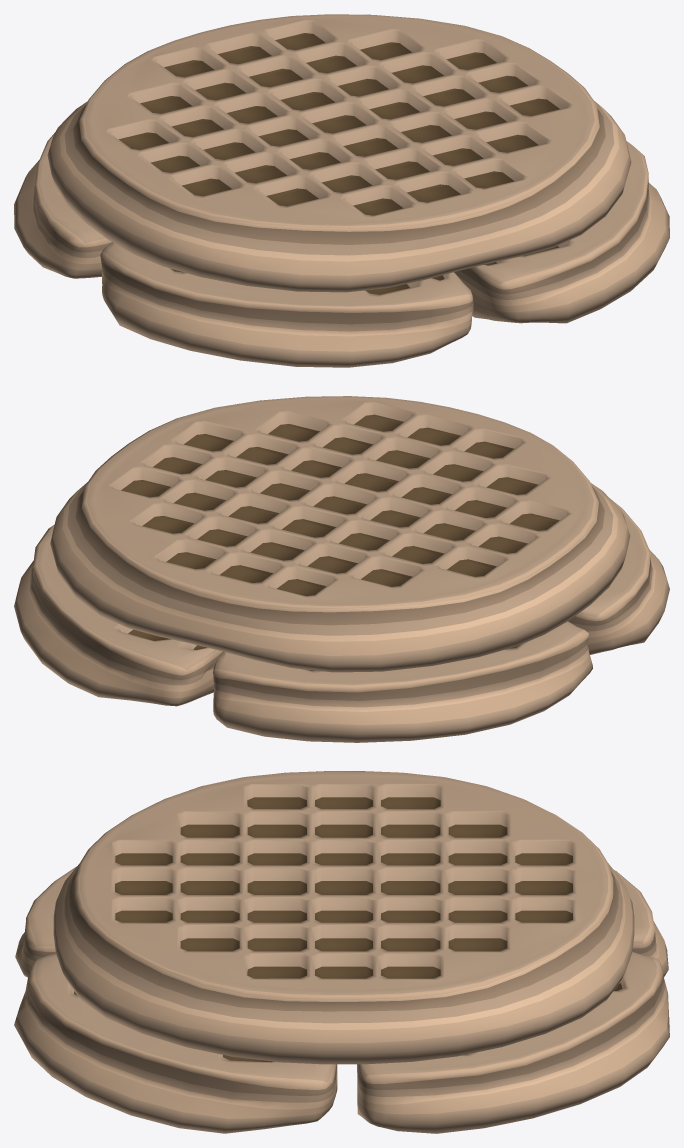
Rendered from Waffle (7).fbx.
The picture shows the model from 3 angles, top to bottom: view 1: azimuth 30°, elevation 25°; view 2: azimuth 150°, elevation 25°; view 3: azimuth 270°, elevation 25°; orthographic projection. The views are drawn at different scales.
Parts seen in each view (by area): view 1: waffletopProcedural.001; view 2: waffletopProcedural.001; view 3: waffletopProcedural.001.
Part boxes in pixels (left/top/right/bottom): waffletopProcedural.001: left=14, top=14, right=669, bottom=367; waffletopProcedural.001: left=14, top=396, right=669, bottom=742; waffletopProcedural.001: left=14, top=771, right=669, bottom=1133.
Size of the model in its own units: 977 by 200 by 981.
